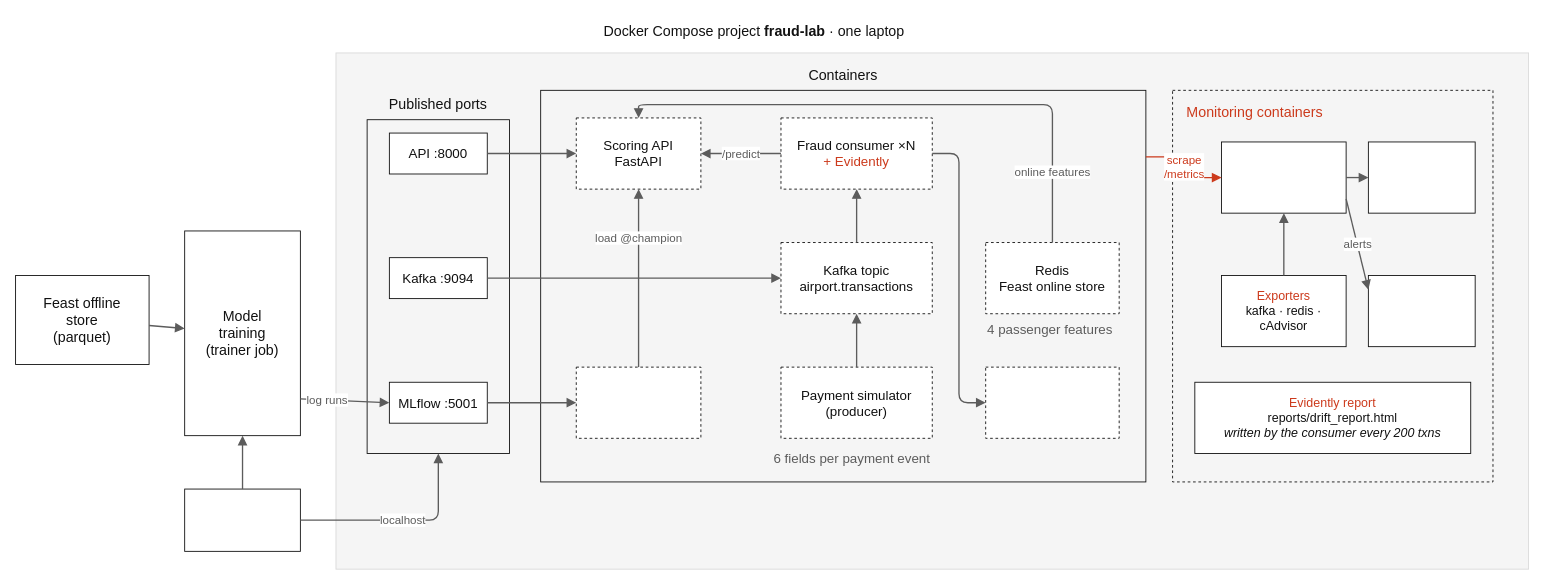
Some shapes in this 1544 by 585 pixel diagram are drawn without their labels. The box of each missing label's shape, as (x1, y1, x2, y2) in pixels:
airport.predictions airport.fraud-alerts: (985, 366, 1119, 438)
Alertmanager :9093: (1367, 275, 1475, 347)
Grafana :3000: (1367, 141, 1475, 213)
MLflow + Postgres: (575, 366, 701, 438)
Prometheus + alert rules: (1221, 141, 1346, 213)
User: (184, 488, 300, 551)
